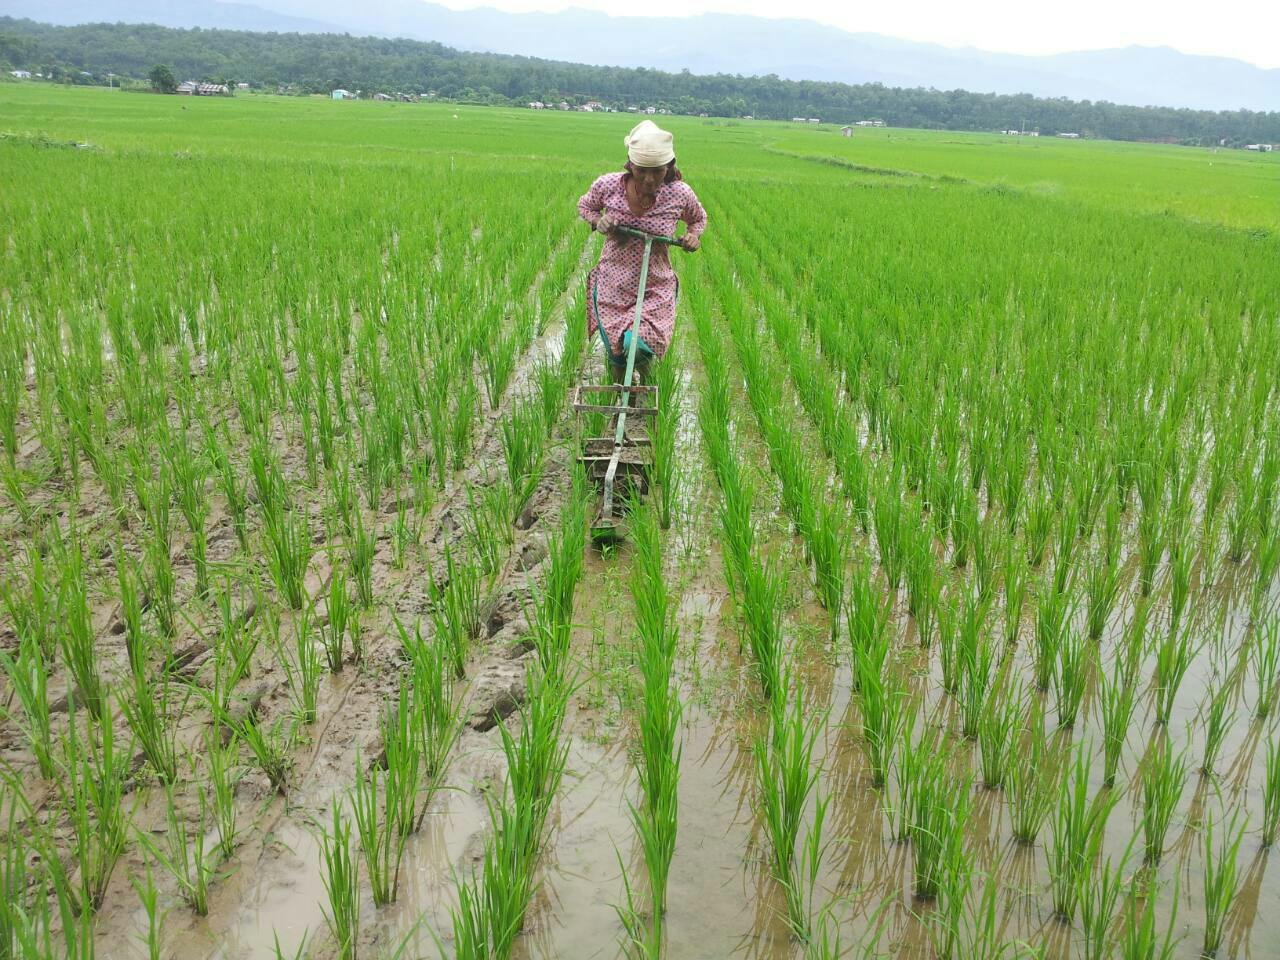human: (568, 117, 715, 400)
